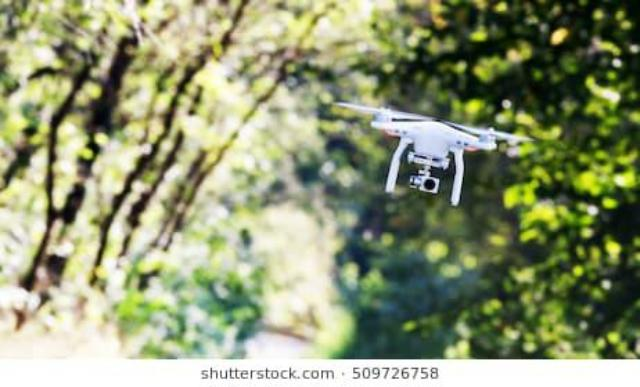drone: (0, 338, 640, 387)
